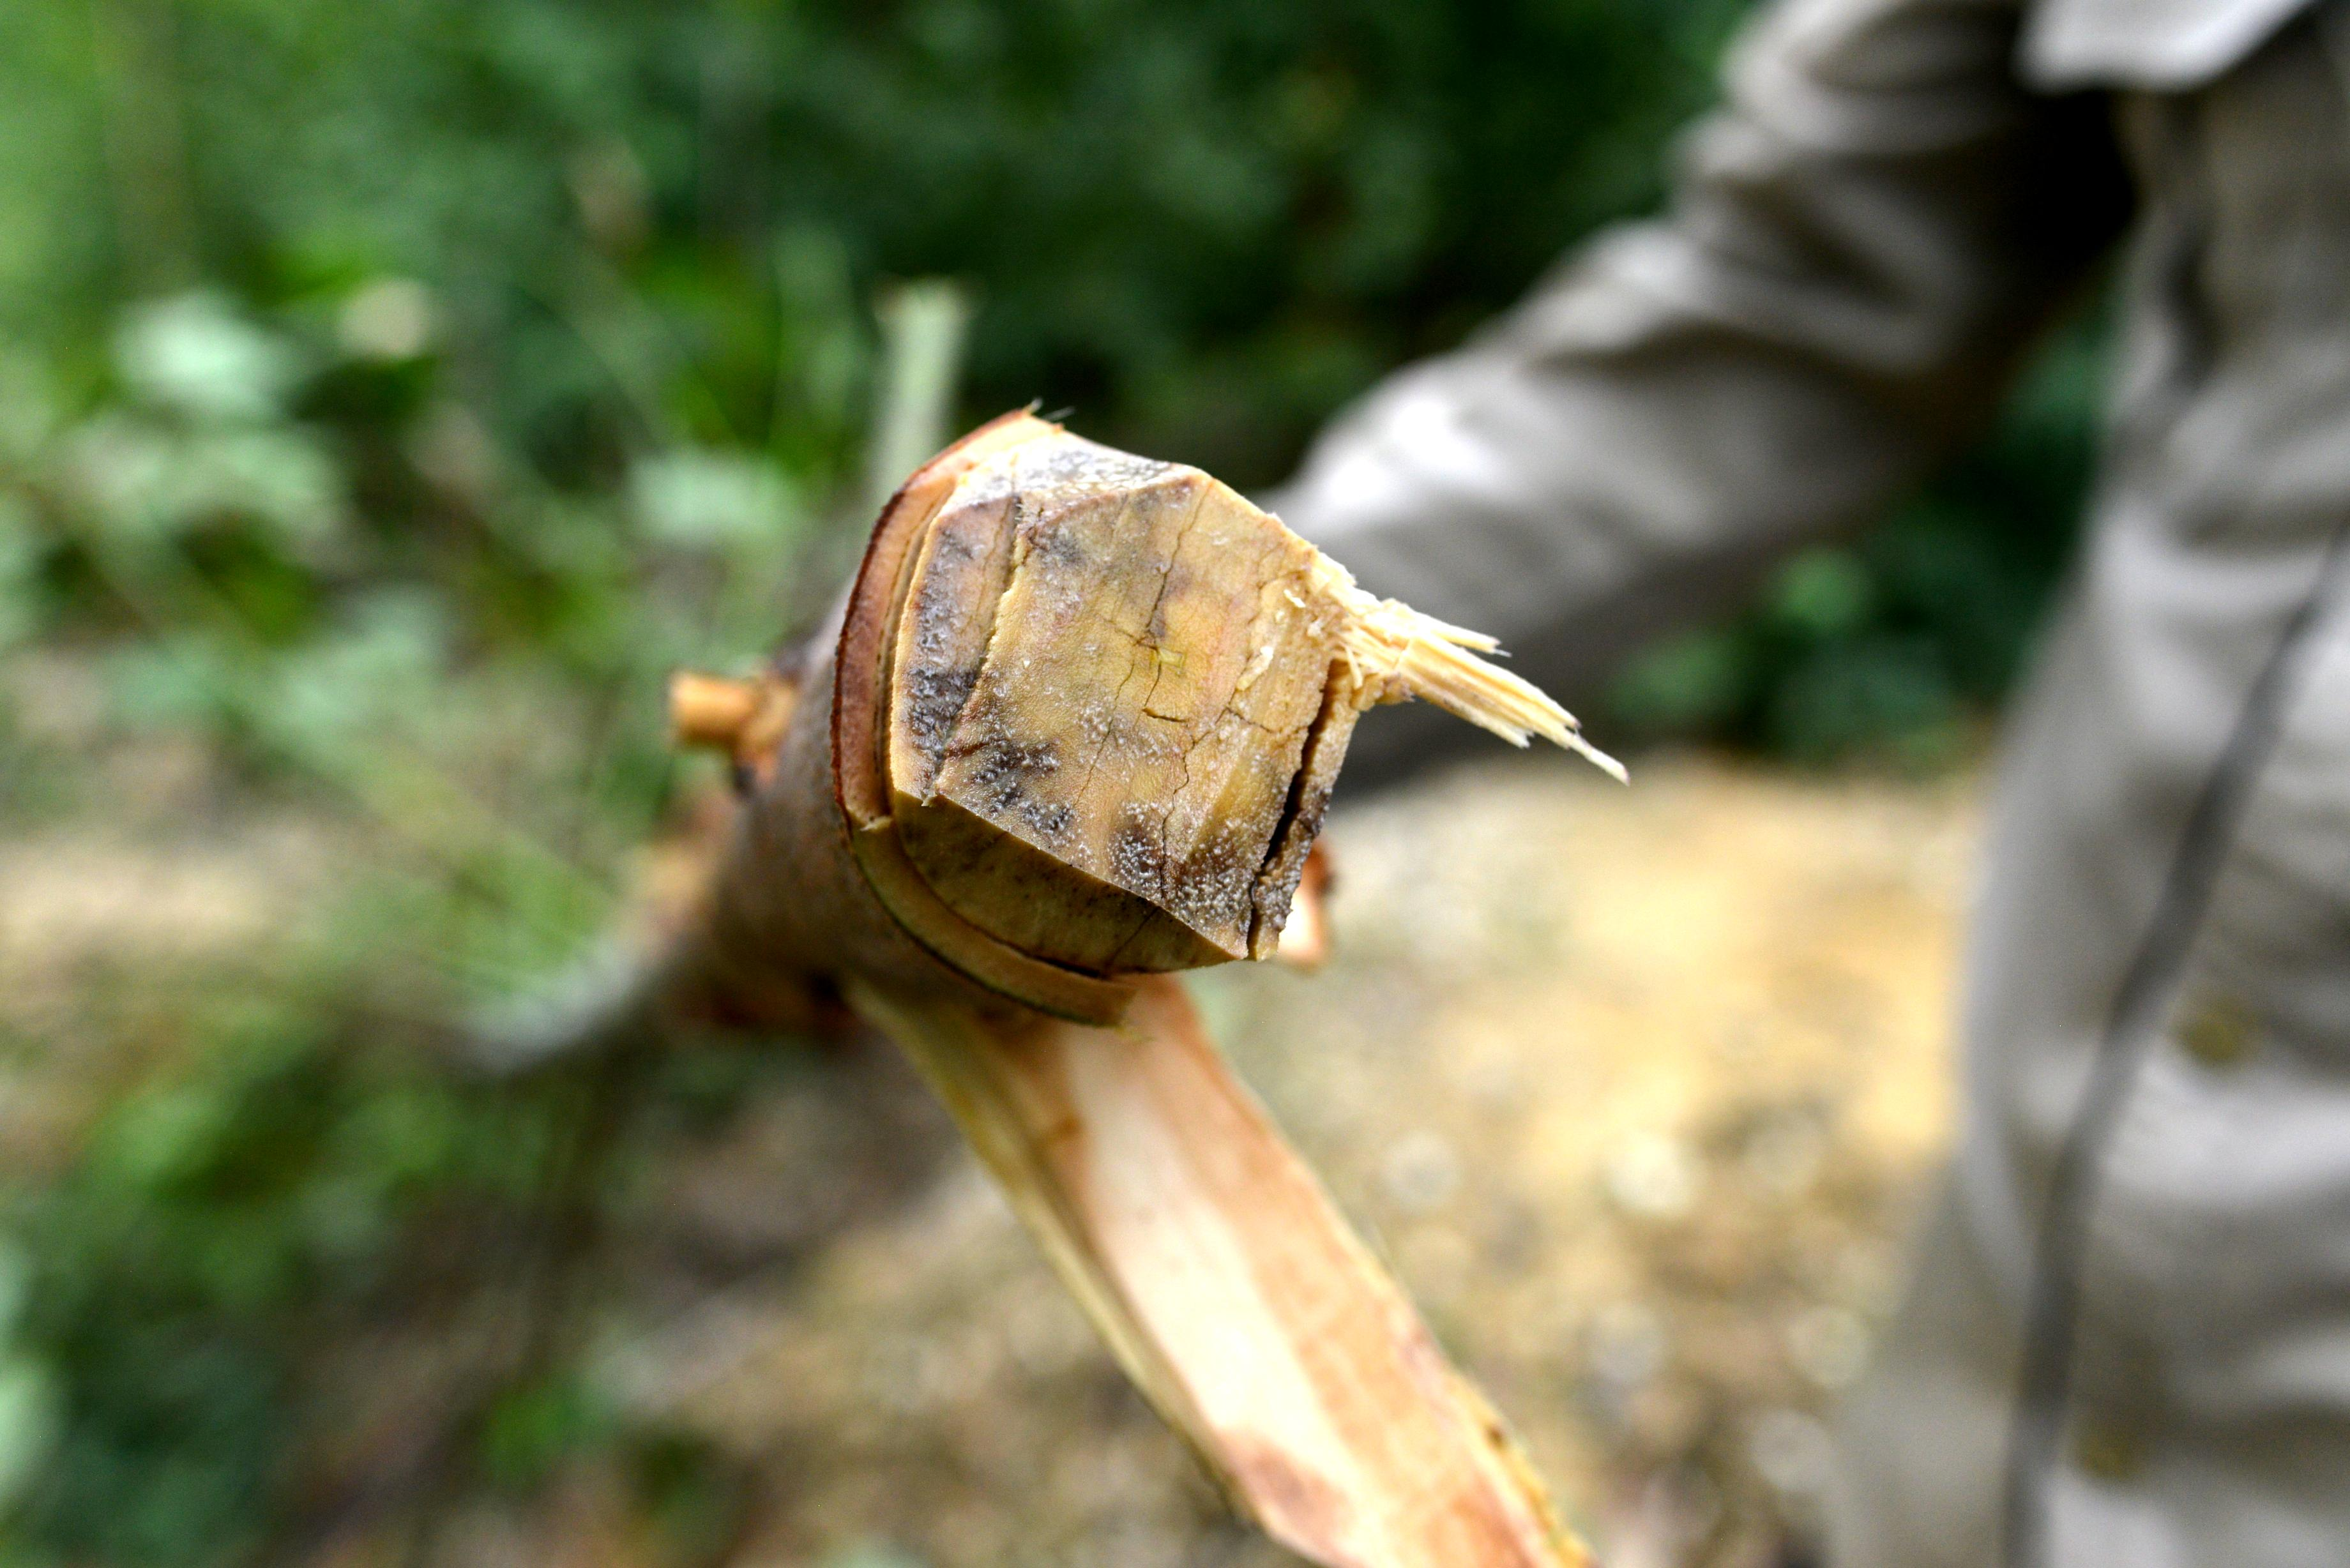Ralstonia: (870, 649, 1335, 959), (908, 537, 1223, 633), (952, 427, 1188, 525)
